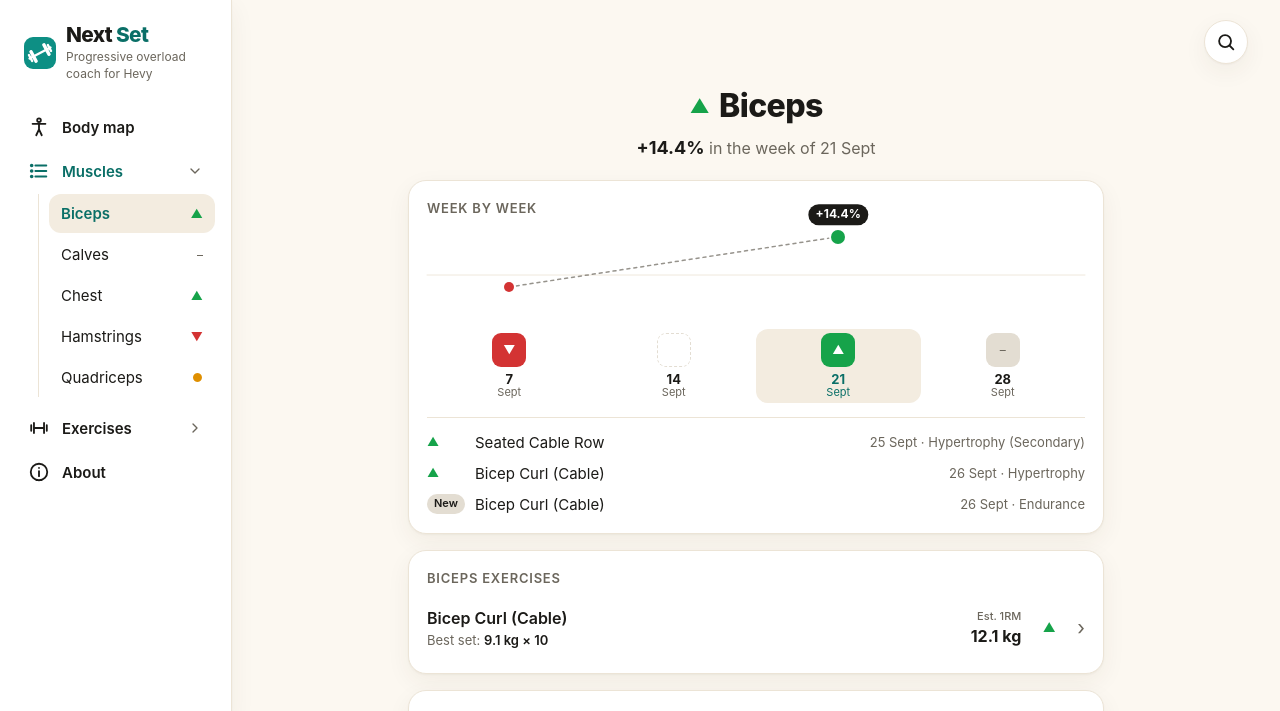
Scenario: muscle page › shows weeks with no training at all as skipped
Click the radio button with aria-label "Week of 14 Sept: Not trained". click: (674, 366)
box: 592,329 -> 756,403
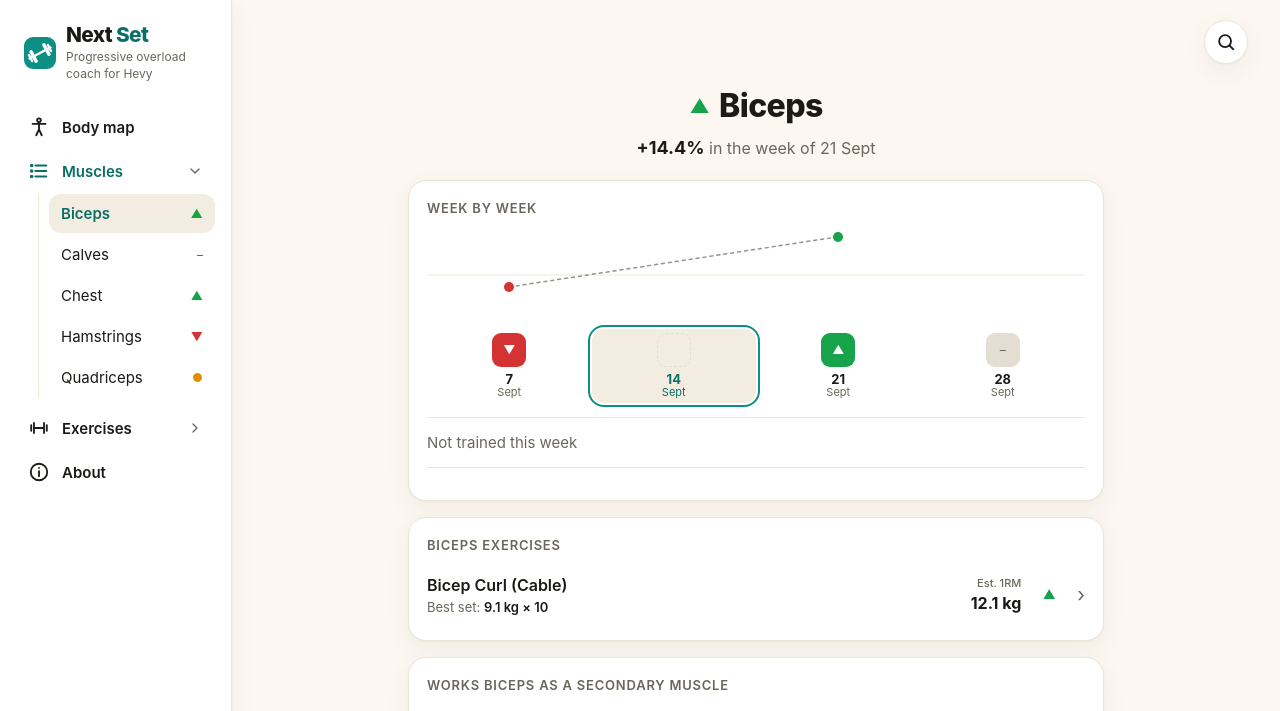
Check: the text "Not trained this week" is shown, box 427,417 -> 1085,453
